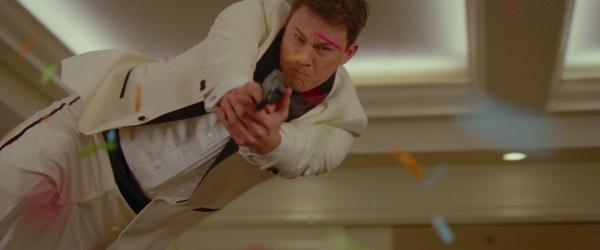Gun: (254, 69, 286, 112)
